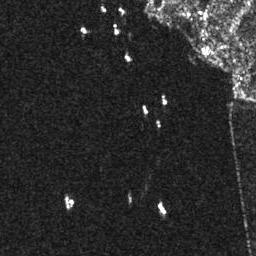ship: (156, 202, 168, 216), (111, 23, 122, 35), (64, 195, 71, 209), (141, 104, 149, 116), (125, 53, 133, 63), (161, 94, 167, 105), (80, 26, 88, 34), (118, 7, 125, 15), (101, 5, 107, 13)
